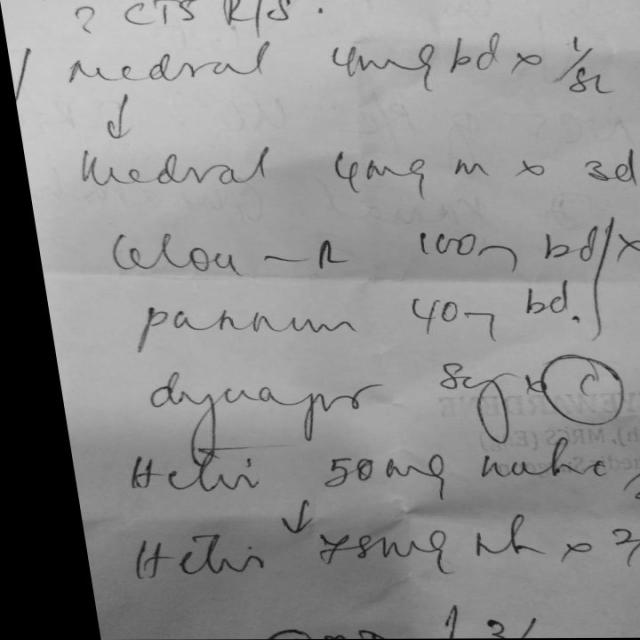Prescription: (58, 32, 617, 106), (105, 439, 640, 509), (127, 352, 604, 428), (121, 279, 576, 345), (112, 530, 640, 586), (64, 140, 640, 190), (96, 220, 597, 274)
